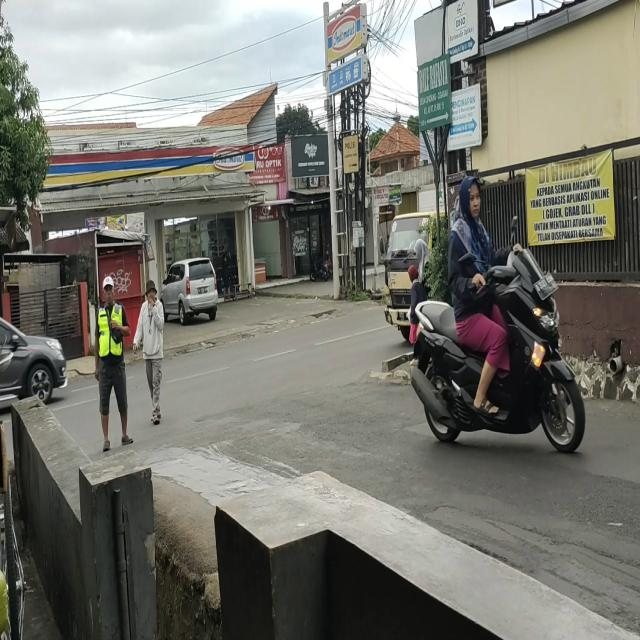no-helmet: (460, 177, 481, 221)
